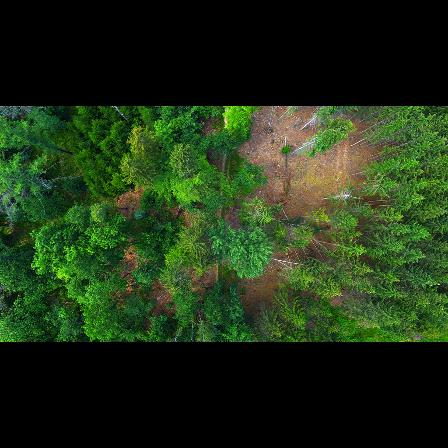Sick: (332, 185, 358, 205)
